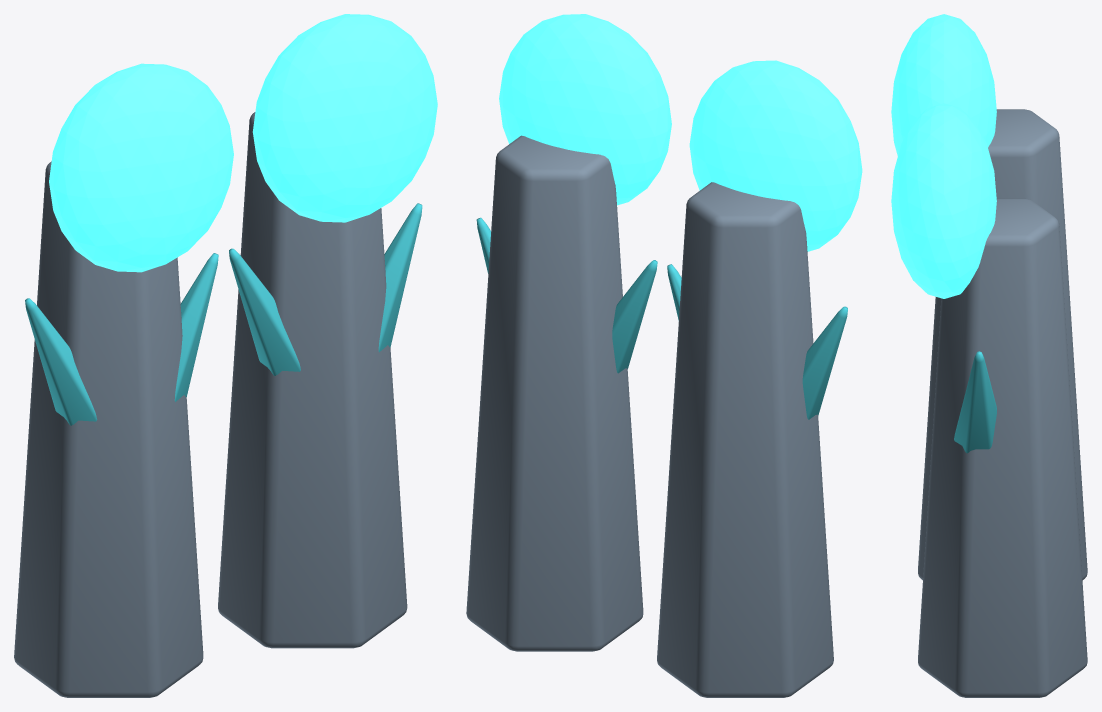
File: greaves_v6.glb
3 renders of one model, left to right at view 1: azimuth 30°, elevation 25°; view 2: azimuth 150°, elevation 25°; view 3: azimuth 270°, elevation 25°, orthographic. The views are drawn at different scales.
Visible parts, largest first — view 1: CRYSTAL_SHIN_PRIMARY.001, CRYSTAL_SHIN_PRIMARY, CRYSTAL_KNEE_EMISSIVE.001, CRYSTAL_KNEE_EMISSIVE, SHIN_SHARD_ACCENT, SHIN_SHARD_ACCENT.002, SHIN_SHARD_ACCENT.001, SHIN_SHARD_ACCENT.003; view 2: CRYSTAL_SHIN_PRIMARY.001, CRYSTAL_SHIN_PRIMARY, CRYSTAL_KNEE_EMISSIVE, CRYSTAL_KNEE_EMISSIVE.001, SHIN_SHARD_ACCENT.002, SHIN_SHARD_ACCENT; view 3: CRYSTAL_SHIN_PRIMARY.001, CRYSTAL_KNEE_EMISSIVE.001, CRYSTAL_SHIN_PRIMARY, CRYSTAL_KNEE_EMISSIVE, SHIN_SHARD_ACCENT.003.
Boxes of the visible parts, bbox=[...] form: CRYSTAL_SHIN_PRIMARY.001: bbox=[218, 112, 407, 648]; CRYSTAL_SHIN_PRIMARY: bbox=[14, 161, 203, 697]; CRYSTAL_KNEE_EMISSIVE.001: bbox=[252, 14, 437, 222]; CRYSTAL_KNEE_EMISSIVE: bbox=[49, 63, 233, 272]; SHIN_SHARD_ACCENT: bbox=[25, 298, 97, 425]; SHIN_SHARD_ACCENT.002: bbox=[229, 248, 300, 375]; SHIN_SHARD_ACCENT.001: bbox=[174, 253, 218, 401]; SHIN_SHARD_ACCENT.003: bbox=[378, 203, 422, 352]; CRYSTAL_SHIN_PRIMARY.001: bbox=[466, 135, 643, 651]; CRYSTAL_SHIN_PRIMARY: bbox=[657, 182, 833, 697]; CRYSTAL_KNEE_EMISSIVE: bbox=[689, 60, 862, 251]; CRYSTAL_KNEE_EMISSIVE.001: bbox=[499, 14, 671, 205]; SHIN_SHARD_ACCENT.002: bbox=[612, 260, 657, 373]; SHIN_SHARD_ACCENT: bbox=[802, 306, 847, 419]; CRYSTAL_SHIN_PRIMARY.001: bbox=[918, 198, 1087, 697]; CRYSTAL_KNEE_EMISSIVE.001: bbox=[891, 103, 996, 298]; CRYSTAL_SHIN_PRIMARY: bbox=[918, 109, 1087, 580]; CRYSTAL_KNEE_EMISSIVE: bbox=[891, 14, 996, 155]; SHIN_SHARD_ACCENT.003: bbox=[954, 351, 996, 453].
Bounding box in the file's own units: 1.4 × 2.1 × 0.6696.
